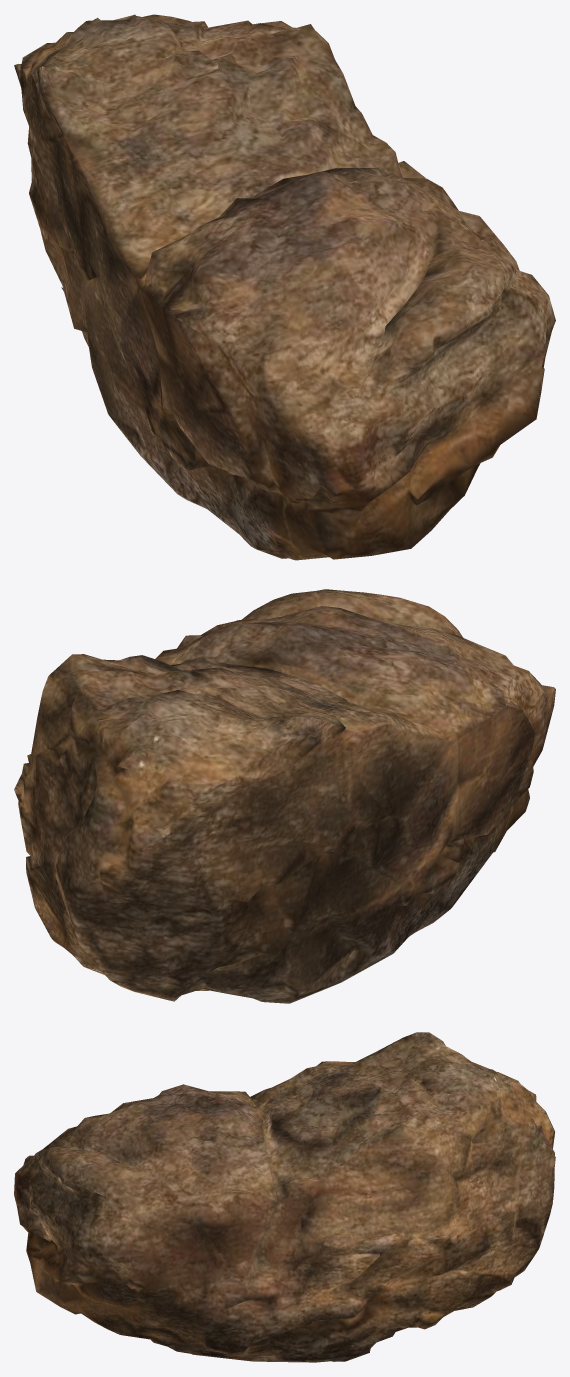
The model's file is namaqualand_boulder_06.glb.
3 renders of one model, top to bottom at view 1: azimuth 30°, elevation 25°; view 2: azimuth 150°, elevation 25°; view 3: azimuth 270°, elevation 25°, orthographic. The views are drawn at different scales.
Visible parts, largest first — view 1: namaqualand_boulder_06; view 2: namaqualand_boulder_06; view 3: namaqualand_boulder_06.
Part boxes in pixels (<box>): namaqualand_boulder_06: <box>14,14,555,560</box>; namaqualand_boulder_06: <box>14,589,555,1003</box>; namaqualand_boulder_06: <box>14,1032,555,1362</box>.
Size of the model in its own units: 0.6724 by 0.6494 by 1.21.
Materials: 1 (1 with a texture image).
